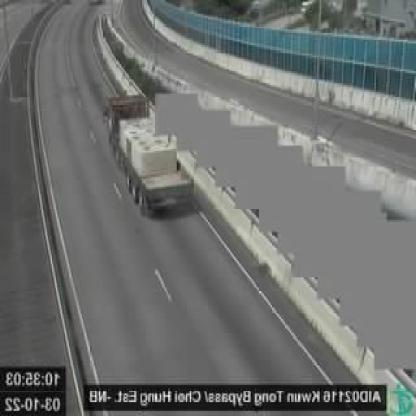Car: (108, 97, 195, 213)
